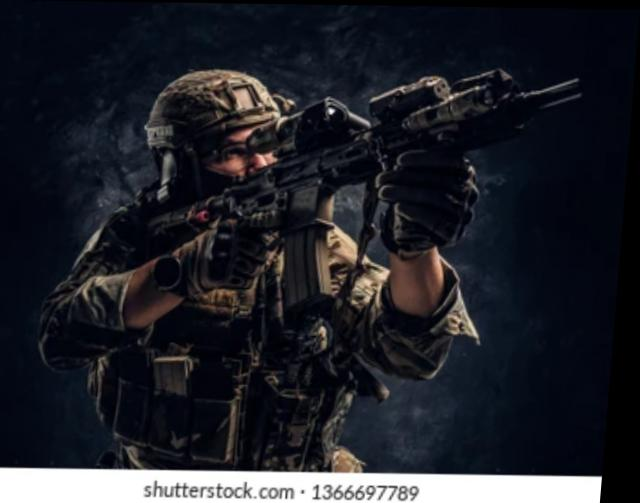other: (92, 53, 391, 462)
